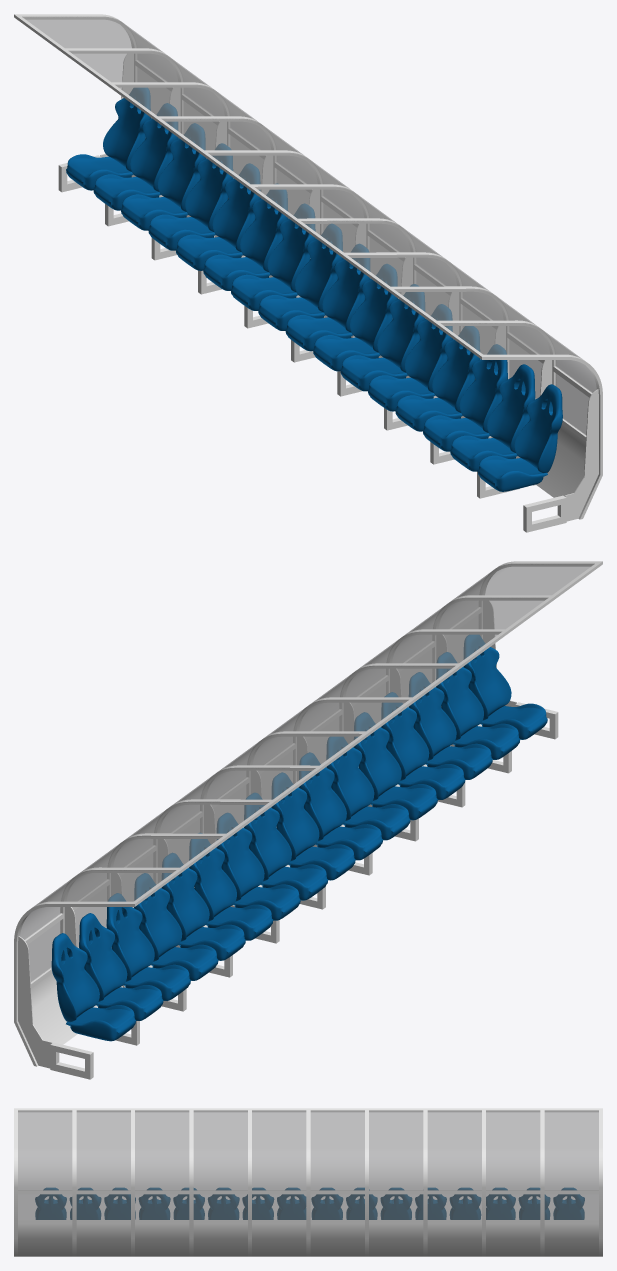
Rendered from DugoutLong.fbx.
3 views of the same model, one above another, from view 1: azimuth 30°, elevation 25°; view 2: azimuth 150°, elevation 25°; view 3: azimuth 270°, elevation 25° (orthographic). The views are drawn at different scales.
Parts seen in each view (by area): view 1: DugoutLong_LOD0; view 2: DugoutLong_LOD0; view 3: DugoutLong_LOD0.
Part boxes in pixels (x1=…): DugoutLong_LOD0: x1=14, y1=14, x2=602, y2=532; DugoutLong_LOD0: x1=14, y1=561, x2=602, y2=1079; DugoutLong_LOD0: x1=14, y1=1108, x2=602, y2=1256.
Size of what is drawn, in the model's own units: 126 by 186 by 848.
